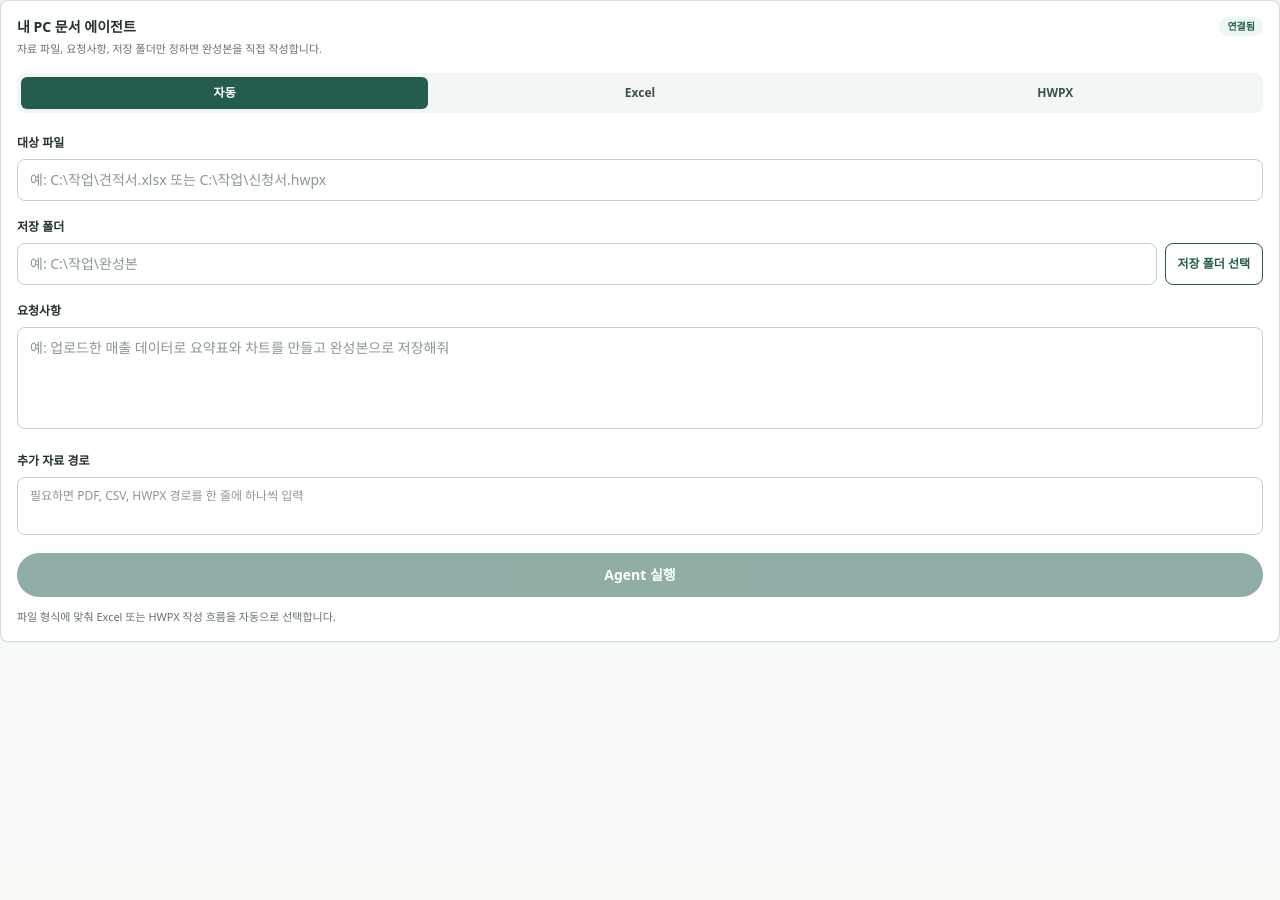
Test: LocalAgentPanel › fills the output folder through the local agent picker in a browser session
Expected: the text with test id "local-agent-status" reads "연결됨", left=1227, top=19, right=1255, bottom=33
Click the button "저장 폴더 선택" at x=1214, y=264, box left=1164, top=243, right=1263, bottom=285
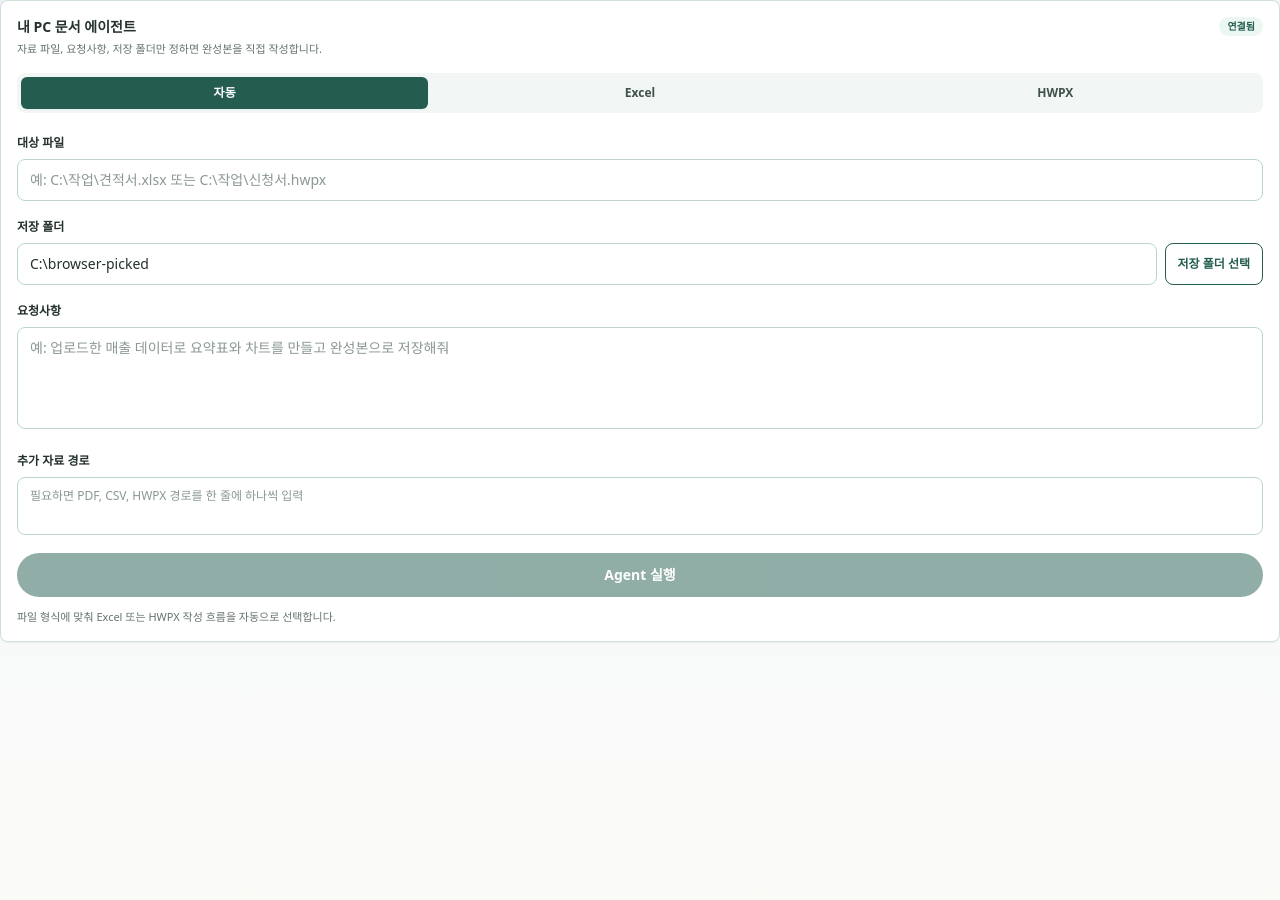
Result: the field labelled "저장 폴더" holds "C:\\browser-picked" at left=17, top=243, right=1156, bottom=285
